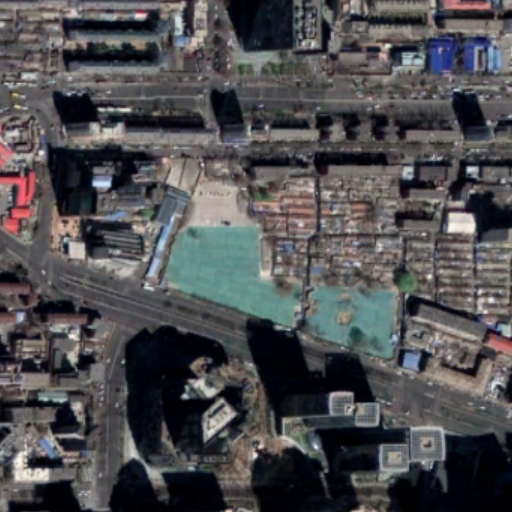cw: (159, 225, 396, 360)
